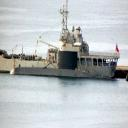submarine: (11, 52, 98, 79)
